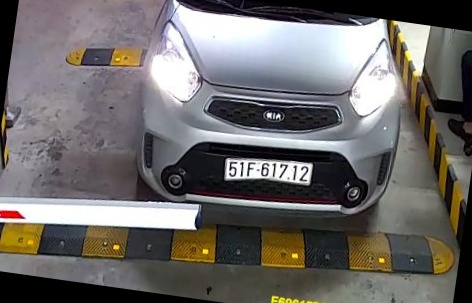plate: (223, 153, 316, 192)
